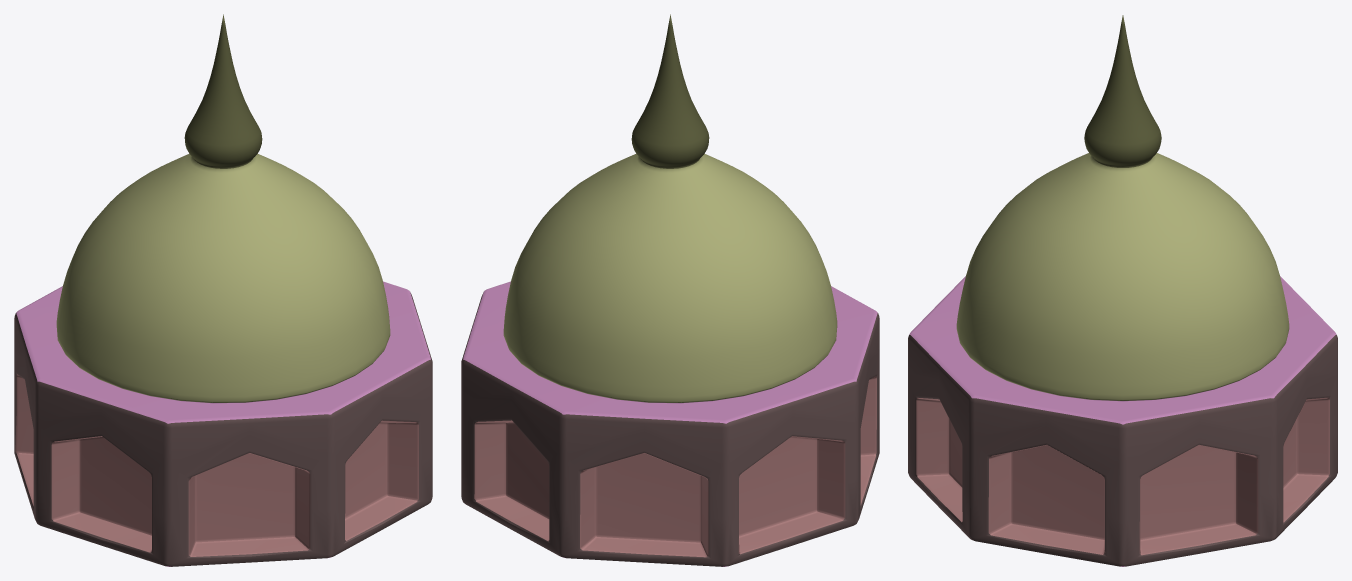
Rendered from ARCH_C.fbx.
The picture shows the model from 3 angles, left to right: view 1: azimuth 30°, elevation 25°; view 2: azimuth 150°, elevation 25°; view 3: azimuth 270°, elevation 25°; orthographic projection.
Visible parts, largest first — view 1: pCylinder4; view 2: pCylinder4; view 3: pCylinder4.
Boxes of the visible parts, x1=… form: pCylinder4: x1=14, y1=14, x2=432, y2=566; pCylinder4: x1=461, y1=14, x2=879, y2=566; pCylinder4: x1=908, y1=15, x2=1337, y2=566.
Size of the model in its own units: 34.37 by 40.97 by 34.37.
